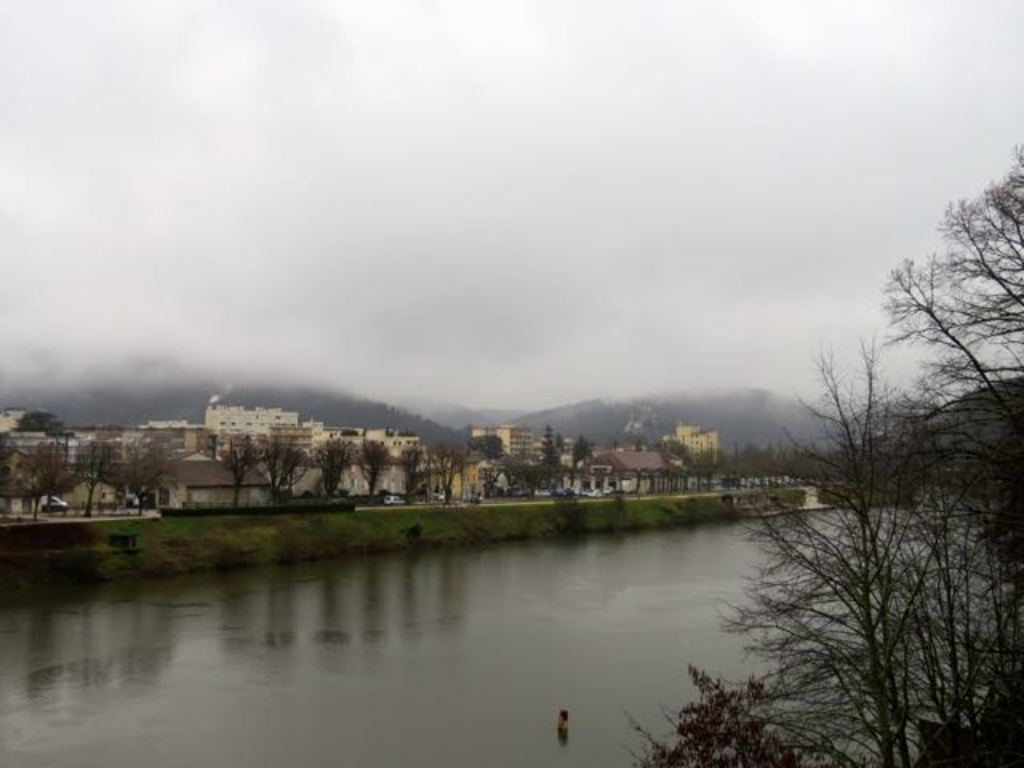Tree: (707, 201, 993, 747), (628, 659, 862, 766), (670, 438, 860, 478), (0, 438, 84, 519), (246, 430, 318, 504), (113, 433, 179, 513), (71, 440, 128, 516), (305, 433, 361, 499), (214, 432, 263, 507), (353, 433, 400, 497), (420, 436, 465, 502), (396, 444, 433, 504), (504, 459, 553, 499), (16, 409, 70, 441), (536, 420, 558, 467), (470, 433, 507, 459), (572, 430, 592, 462)
